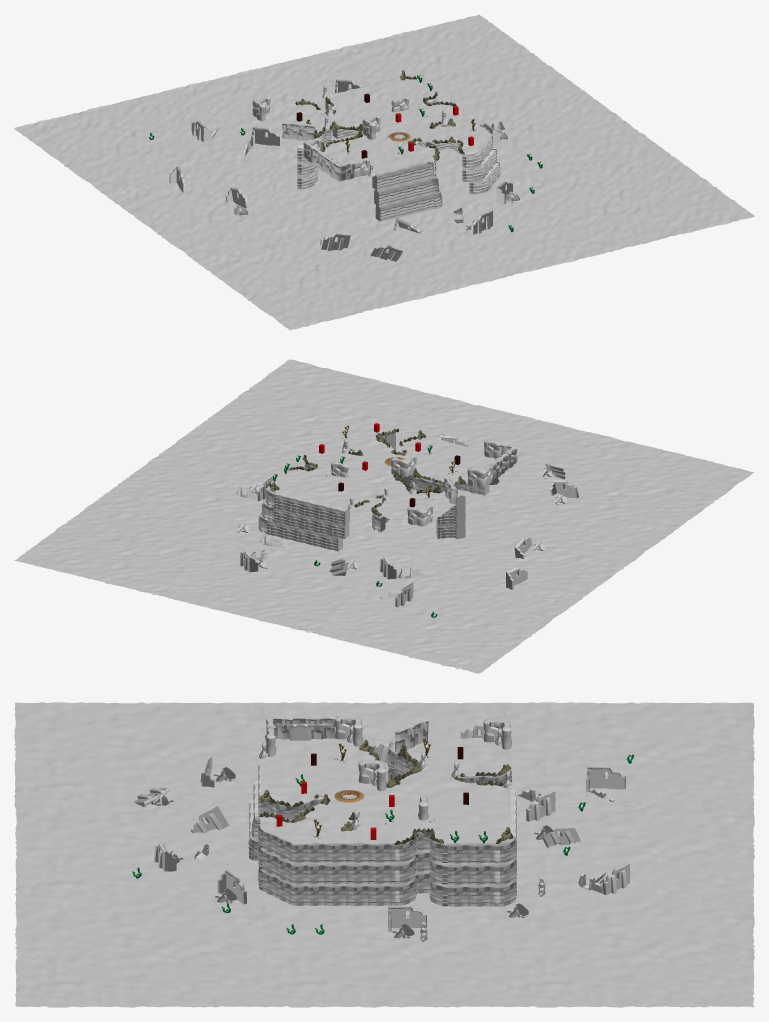
File: Level1_Room5.fbx
The picture shows the model from 3 angles, top to bottom: view 1: azimuth 30°, elevation 25°; view 2: azimuth 150°, elevation 25°; view 3: azimuth 270°, elevation 25°; orthographic projection. The views are drawn at different scales.
Visible parts, largest first — view 1: Plane076, Floor, level1_wall080, ruined_wall007, Wall_L001, MiddleRock030; view 2: Plane076, Floor, level1_wall080, ruined_wall007, Wall_L001, MiddleRock030, ruined_wall_doorway004, rubble_medium005, GigaRock010; view 3: Plane076, Floor, level1_wall080, ruined_wall007, Wall_L001, rubble_medium005, MiddleRock030, ruined_wall_doorway004, GigaRock010, ColumnRock002.
Part boxes in pixels (<box>): Plane076: <box>14,14,754,330</box>; Floor: <box>260,78,492,181</box>; level1_wall080: <box>297,78,500,221</box>; ruined_wall007: <box>169,79,512,261</box>; Wall_L001: <box>252,96,409,181</box>; MiddleRock030: <box>295,76,464,153</box>; Plane076: <box>14,359,754,673</box>; Floor: <box>271,425,495,522</box>; level1_wall080: <box>258,429,489,551</box>; ruined_wall007: <box>239,435,578,607</box>; Wall_L001: <box>331,440,517,526</box>; MiddleRock030: <box>267,428,457,516</box>; ruined_wall_doorway004: <box>236,486,425,599</box>; rubble_medium005: <box>235,467,569,569</box>; GigaRock010: <box>270,430,465,514</box>; Plane076: <box>14,702,754,1007</box>; Floor: <box>259,738,510,844</box>; level1_wall080: <box>248,742,517,906</box>; ruined_wall007: <box>133,724,630,931</box>; Wall_L001: <box>265,716,511,820</box>; rubble_medium005: <box>151,746,607,938</box>; MiddleRock030: <box>259,748,511,844</box>; ruined_wall_doorway004: <box>194,788,614,942</box>; GigaRock010: <box>259,739,513,839</box>; ColumnRock002: <box>258,725,512,829</box>.
Bounding box in the file's own units: 5129 × 734 × 5267.
